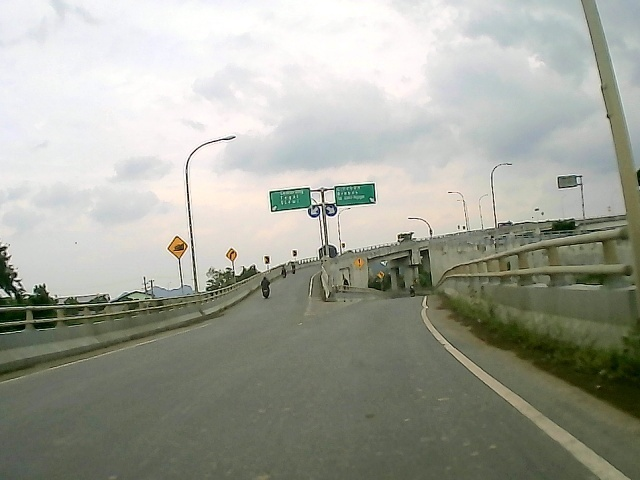Hati-hati: (354, 256, 365, 270)
Jalanan menanjak: (166, 234, 189, 261)
Tikungan ke kanan: (224, 246, 238, 264)
